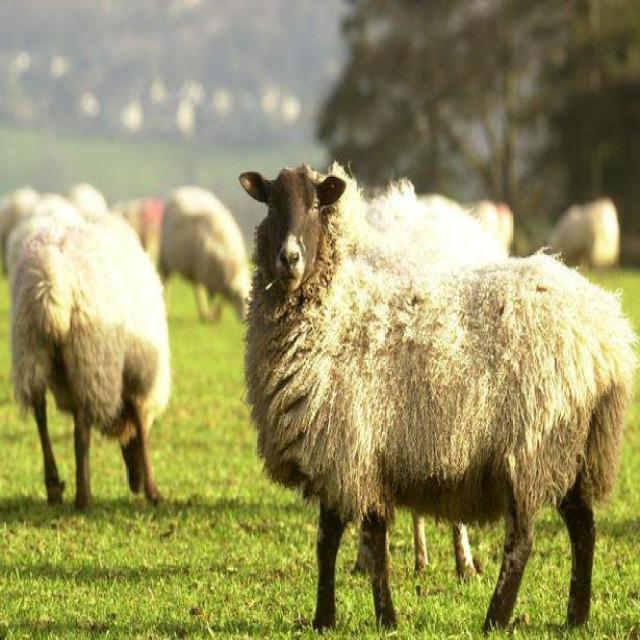Sheep: (242, 163, 630, 632), (6, 203, 176, 507), (157, 183, 249, 326)
